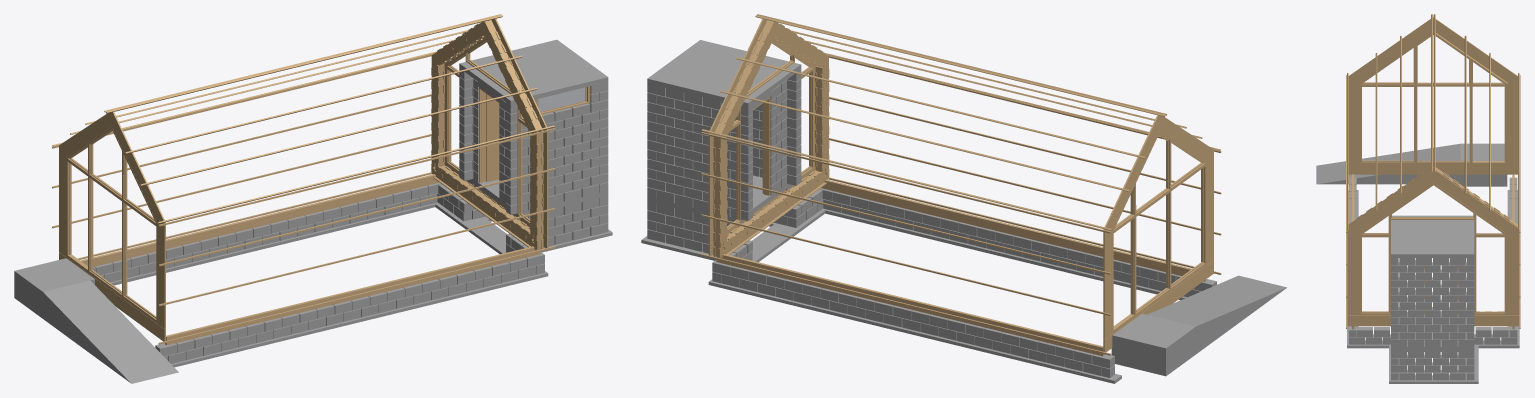
3 views of the same model, side by side, from view 1: azimuth 30°, elevation 25°; view 2: azimuth 150°, elevation 25°; view 3: azimuth 270°, elevation 25° (orthographic). The views are drawn at different scales.
Visible parts, largest first — view 1: Rampa, Wikihouse_001, Lajes, Tampa, Bloco_068, Esquadria_001, Bloco_067, Bloco_065, Viga, Viga_001, Bloco_066, Fundação_002 (+35 smaller); view 2: Rampa, Wikihouse_001, Lajes, Tampa, Bloco_065, Esquadria_001, Bloco_068, Bloco_066, Viga_001, Viga, Bloco_067, Fundação_001 (+36 smaller); view 3: Tampa, Tampa_001, Lajes, Rampa, Esquadria_001, Esquadria, Fundação, Bloco_037, Wikihouse_001, Bloco_059, Bloco_024, Bloco_013 (+29 smaller).
Boxes of the visible parts, bbox=[...] form: Rampa: bbox=[14, 258, 178, 383]; Wikihouse_001: bbox=[431, 20, 543, 250]; Lajes: bbox=[459, 39, 608, 215]; Tampa: bbox=[59, 112, 165, 341]; Bloco_068: bbox=[155, 252, 544, 356]; Esquadria_001: bbox=[66, 127, 157, 323]; Bloco_067: bbox=[168, 266, 536, 363]; Bloco_065: bbox=[93, 182, 441, 275]; Viga: bbox=[80, 174, 439, 266]; Viga_001: bbox=[165, 246, 540, 345]; Bloco_066: bbox=[101, 193, 437, 282]; Fundação_002: bbox=[171, 271, 548, 367]; Rampa: bbox=[1111, 275, 1286, 376]; Wikihouse_001: bbox=[713, 20, 829, 258]; Lajes: bbox=[647, 40, 801, 221]; Tampa: bbox=[1103, 115, 1213, 352]; Bloco_065: bbox=[712, 260, 1114, 368]; Esquadria_001: bbox=[1112, 131, 1206, 333]; Bloco_068: bbox=[819, 188, 1216, 291]; Bloco_066: bbox=[721, 274, 1101, 375]; Viga_001: bbox=[821, 179, 1206, 281]; Viga: bbox=[716, 254, 1104, 356]; Bloco_067: bbox=[823, 199, 1200, 297]; Fundação_001: bbox=[708, 279, 1121, 383]; Tampa: bbox=[1348, 17, 1517, 174]; Tampa_001: bbox=[1347, 168, 1519, 326]; Lajes: bbox=[1391, 215, 1474, 350]; Rampa: bbox=[1316, 143, 1507, 186]; Esquadria_001: bbox=[1359, 31, 1507, 165]; Esquadria: bbox=[1359, 182, 1507, 315]; Fundação: bbox=[1358, 340, 1507, 383]; Bloco_037: bbox=[1391, 322, 1474, 332]; Wikihouse_001: bbox=[1348, 167, 1517, 311]; Bloco_059: bbox=[1391, 362, 1474, 372]; Bloco_024: bbox=[1391, 277, 1474, 287]; Bloco_013: bbox=[1391, 262, 1474, 272].
Size of the model in its own units: 12 by 4.97 by 4.83.
